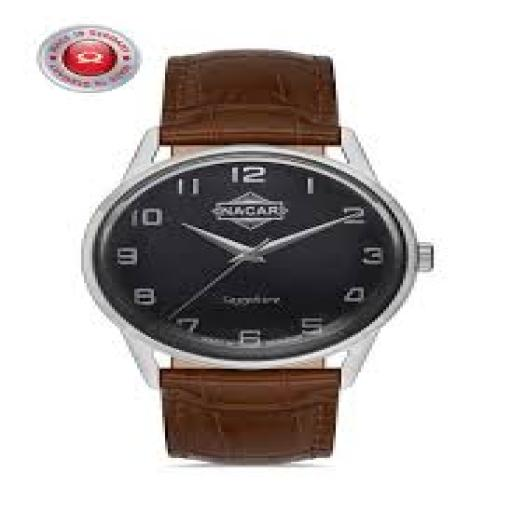KolSaati: (84, 26, 445, 466)
